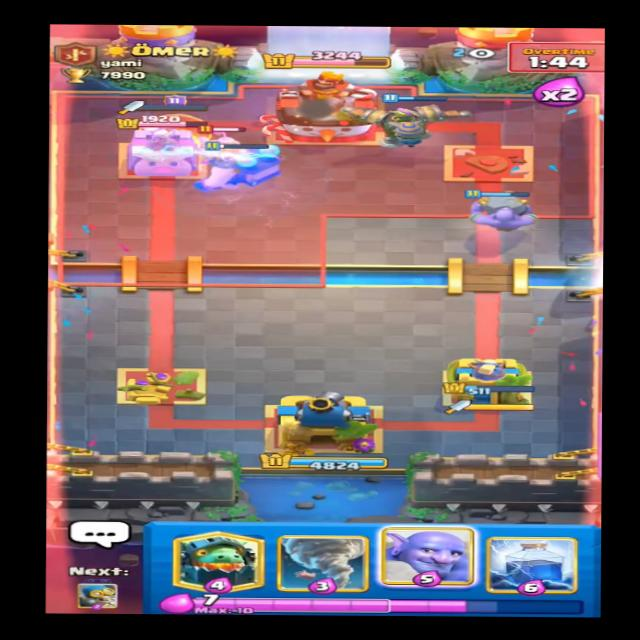evo-wizard: (147, 101, 210, 133)
prince: (196, 124, 254, 173)
